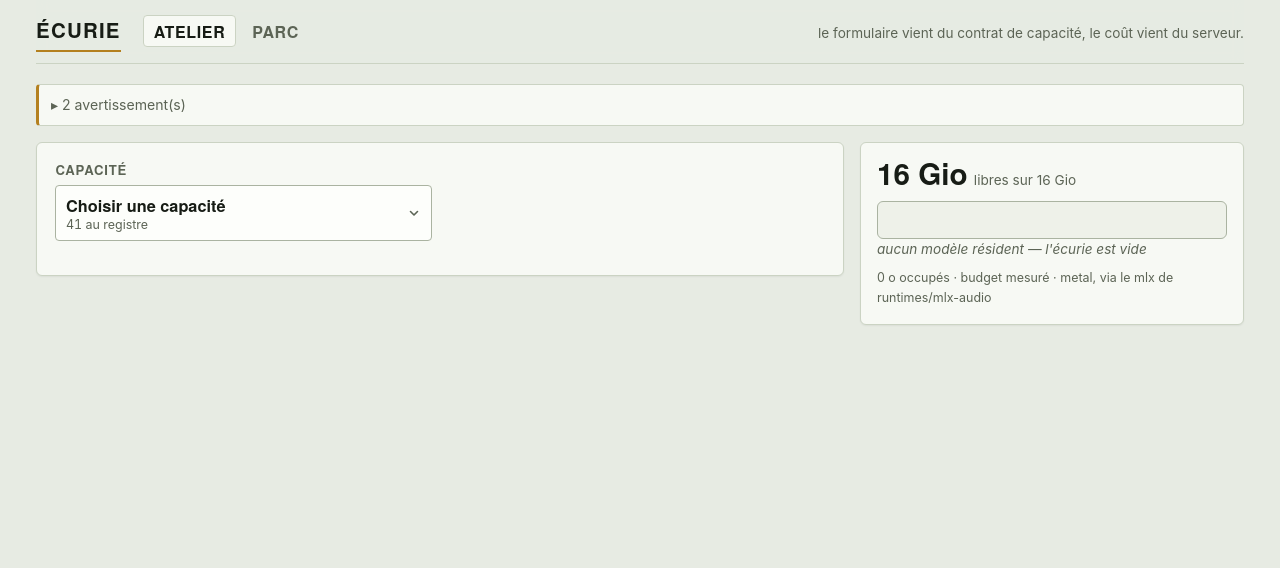
Test: lancer un job › le clic envoie la reference et l_entree projetee
Click the button "Choisir une capacité 41 au registre" at (146,205), box [55, 185, 432, 241]
(page scrolled)
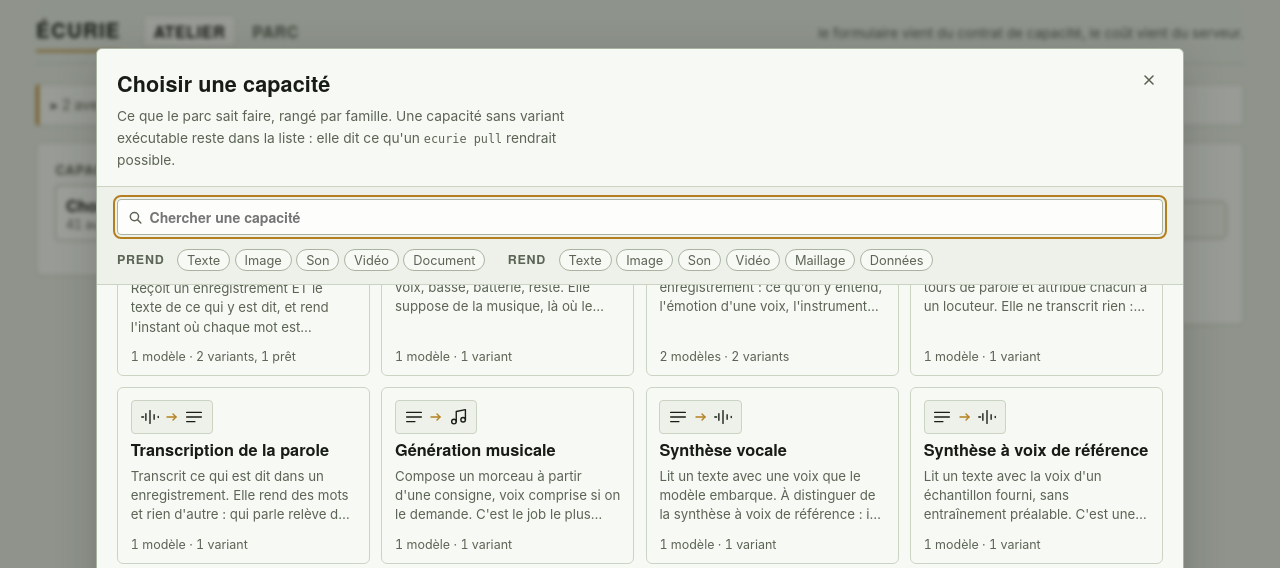
Click the button "Synthèse vocale" at (772,475), box [646, 387, 899, 564]
(page scrolled)
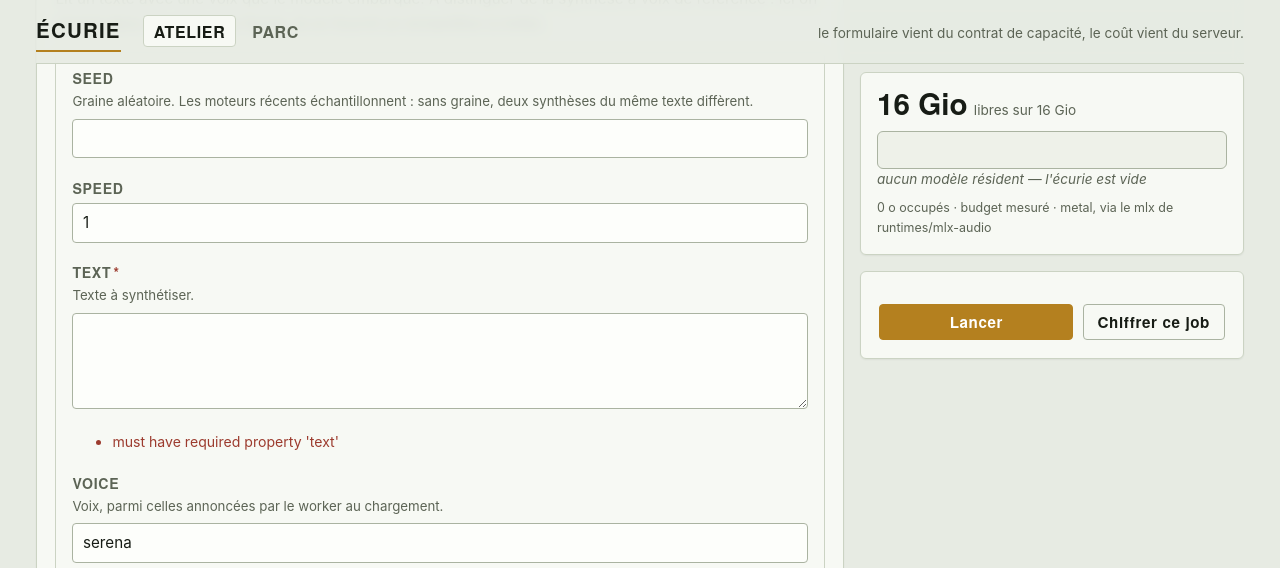
Type "Bonjour." into the text box labelled "text*" at (440,361), box [72, 313, 808, 409]
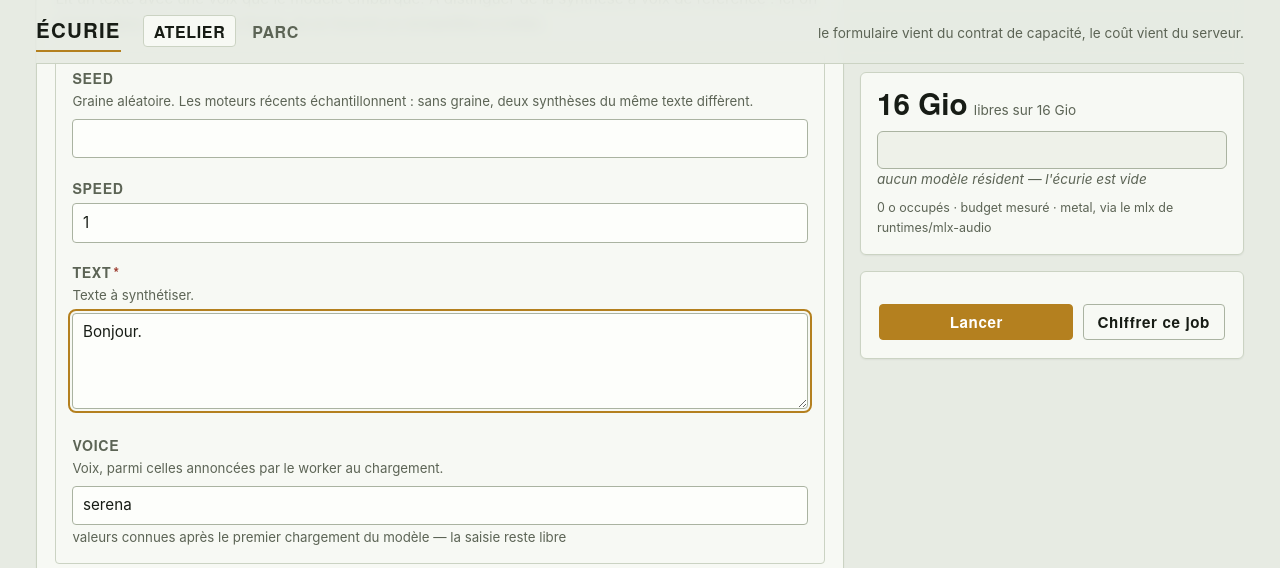
Click the button "Lancer" at (976,322), box [879, 304, 1073, 340]
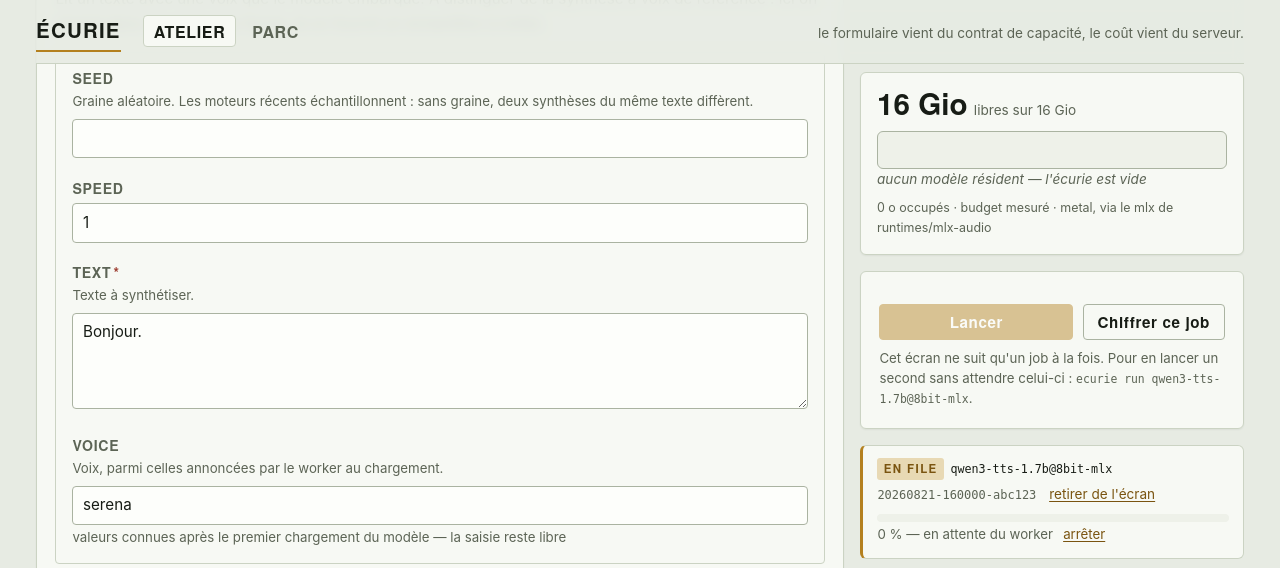
Check: the text "qwen3-tts-1.7b@8bit-mlx" is shown, box [950, 460, 1112, 478]
